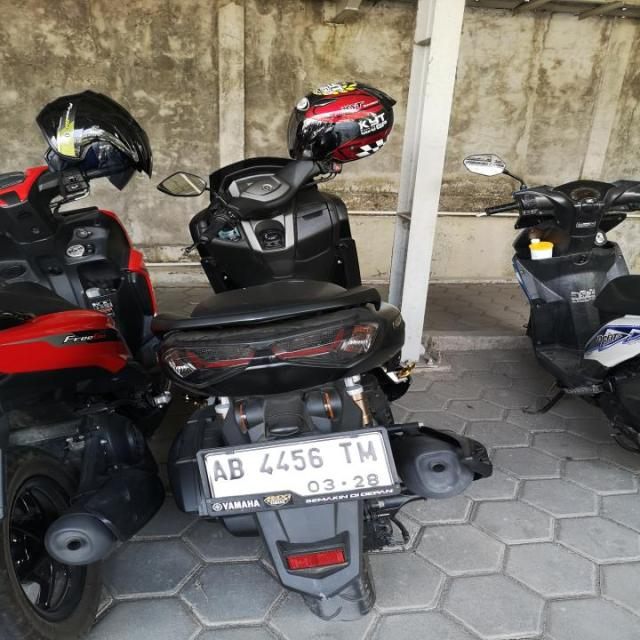License Plate: (197, 429, 408, 516)
